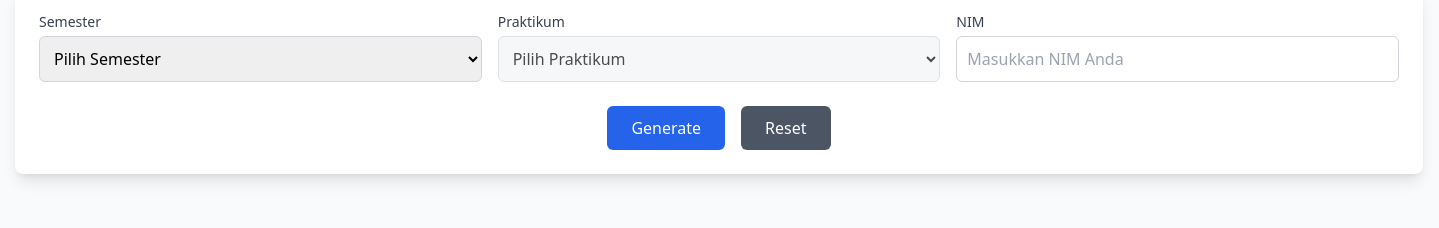
it: Form Component › shows error when generating without selecting semester
Click the button "Generate" at (666, 128), box [607, 106, 725, 150]
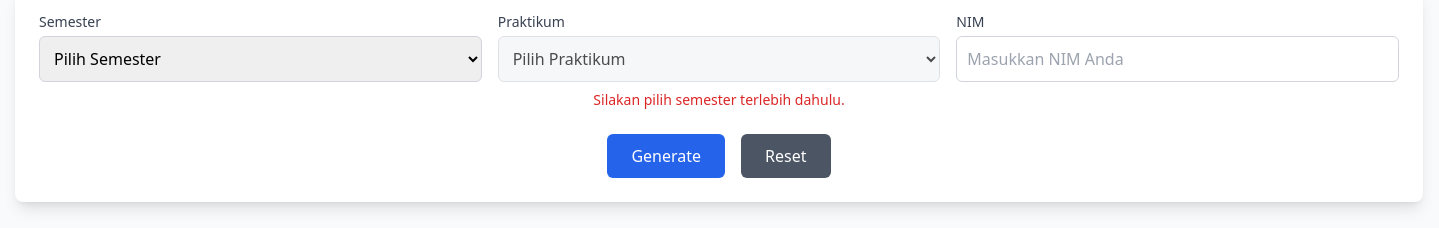
Now the text "Silakan pilih semester terlebih dahulu." is shown, box [593, 90, 845, 109]
